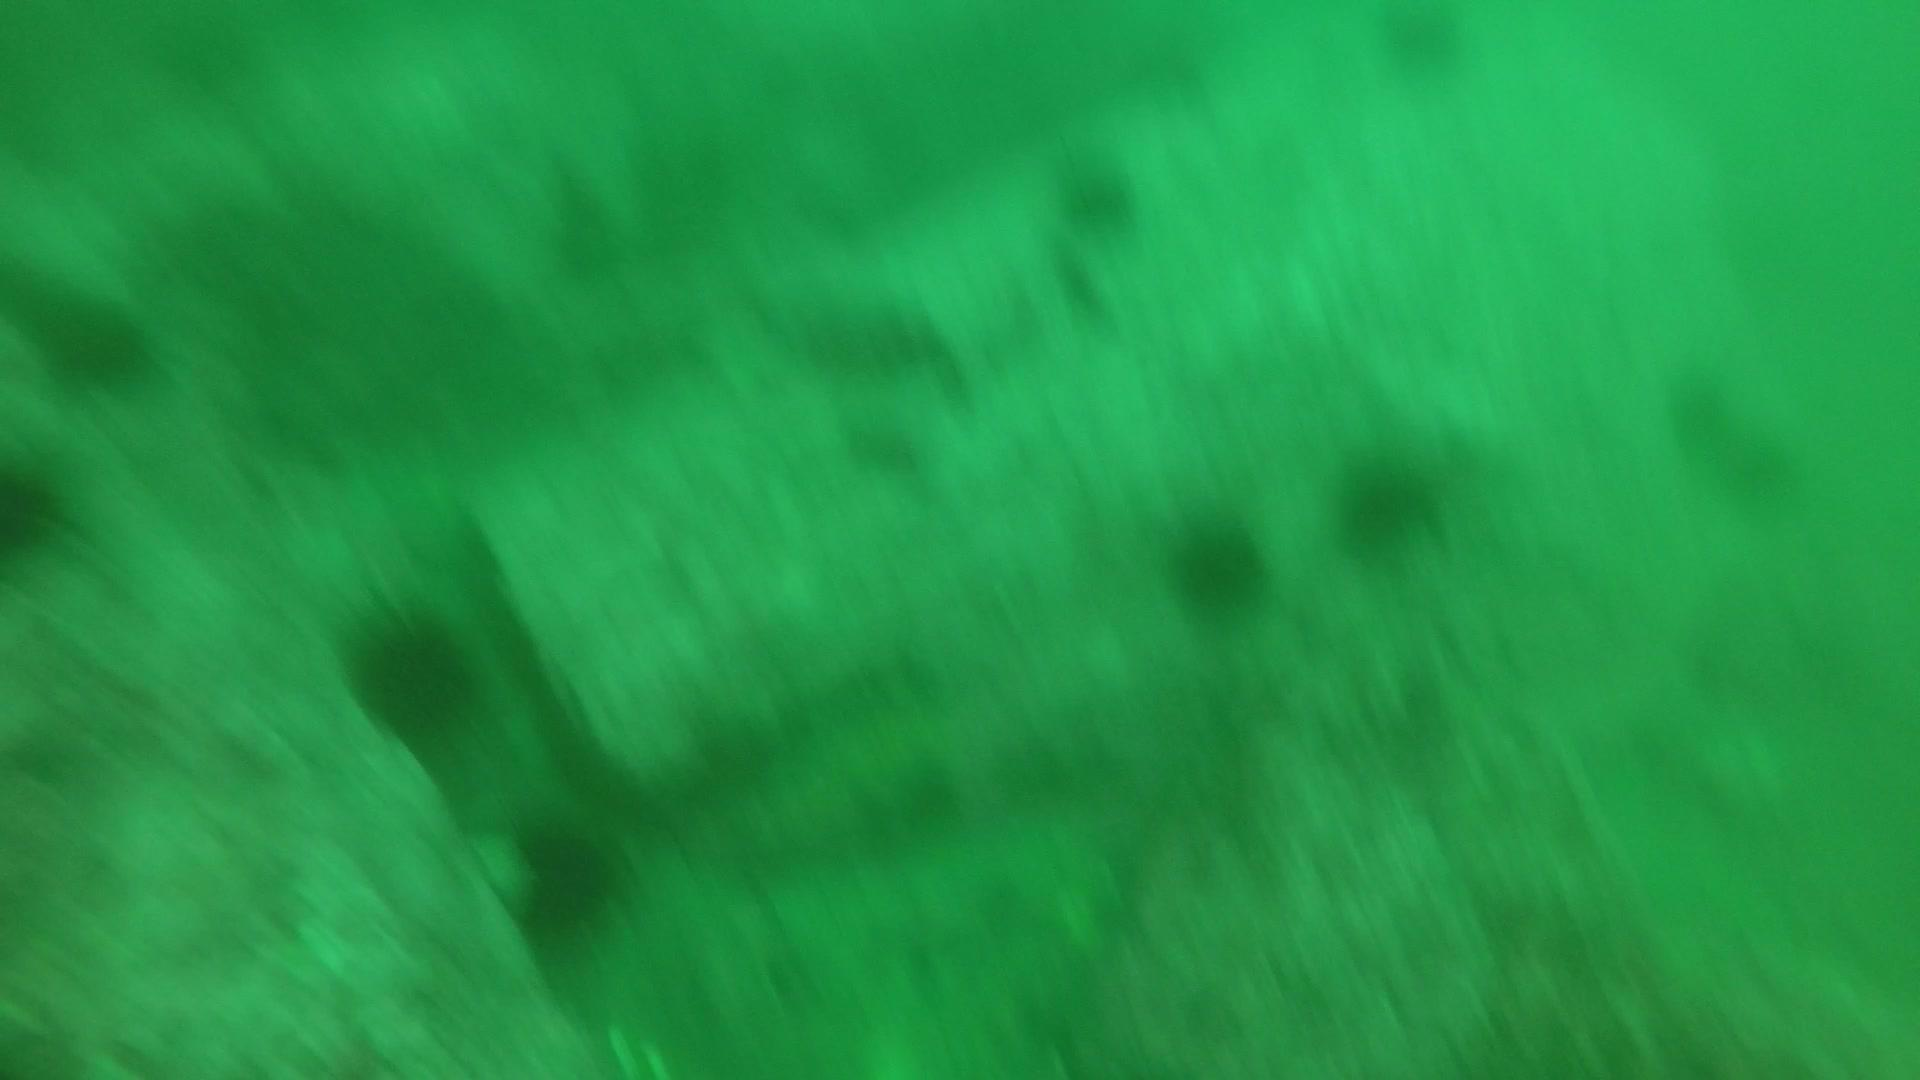urchin: (1342, 439, 1453, 578), (359, 612, 488, 729), (498, 827, 629, 934), (1164, 524, 1278, 615), (51, 301, 165, 382), (4, 448, 74, 563), (1040, 161, 1135, 222), (1391, 1, 1462, 76)
